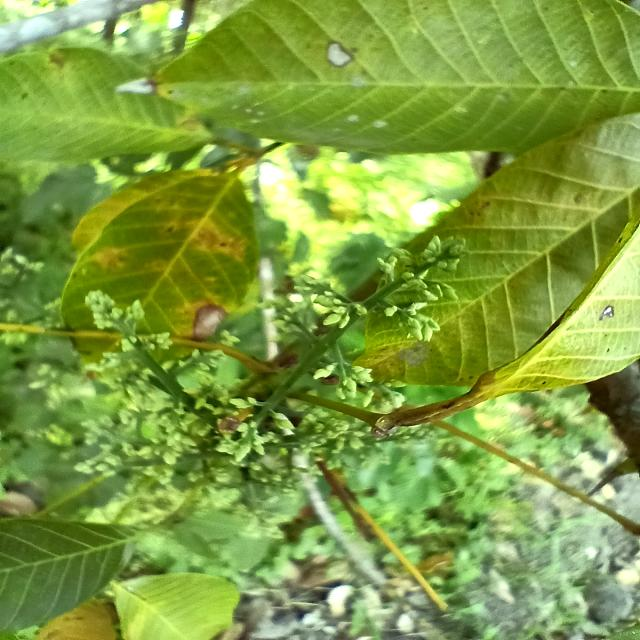Colletotrichum: (603, 305, 614, 317), (542, 381, 547, 385), (606, 348, 610, 352)
Leaf-Blight: (193, 306, 226, 342), (116, 76, 152, 95), (328, 43, 349, 66)
